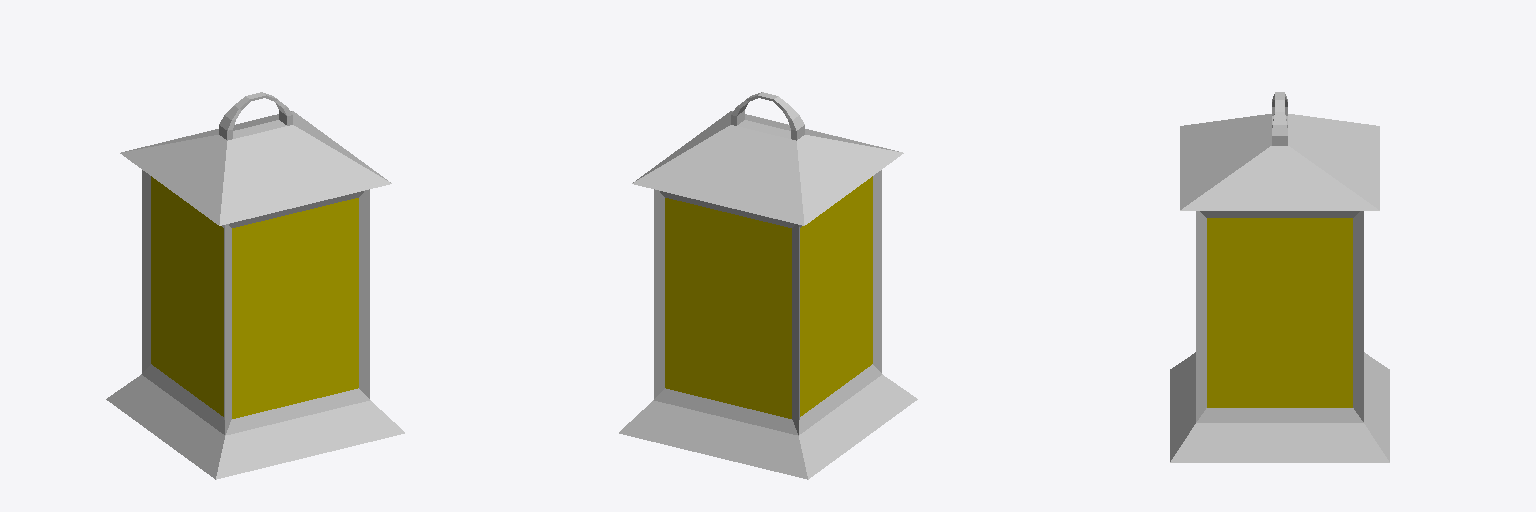
Rendered from handheld_lantern.obj.
The picture shows the model from 3 angles: view 1: azimuth 30°, elevation 25°; view 2: azimuth 150°, elevation 25°; view 3: azimuth 270°, elevation 25°; orthographic projection.
Visible parts, largest first — view 1: Plane; view 2: Plane; view 3: Plane.
Part boxes in pixels (x1,y1,x2,y2): Plane: (106,92,404,479); Plane: (619,92,917,479); Plane: (1170,92,1389,462).
Bounding box in the file's own units: 0.2936 × 0.4718 × 0.2936.